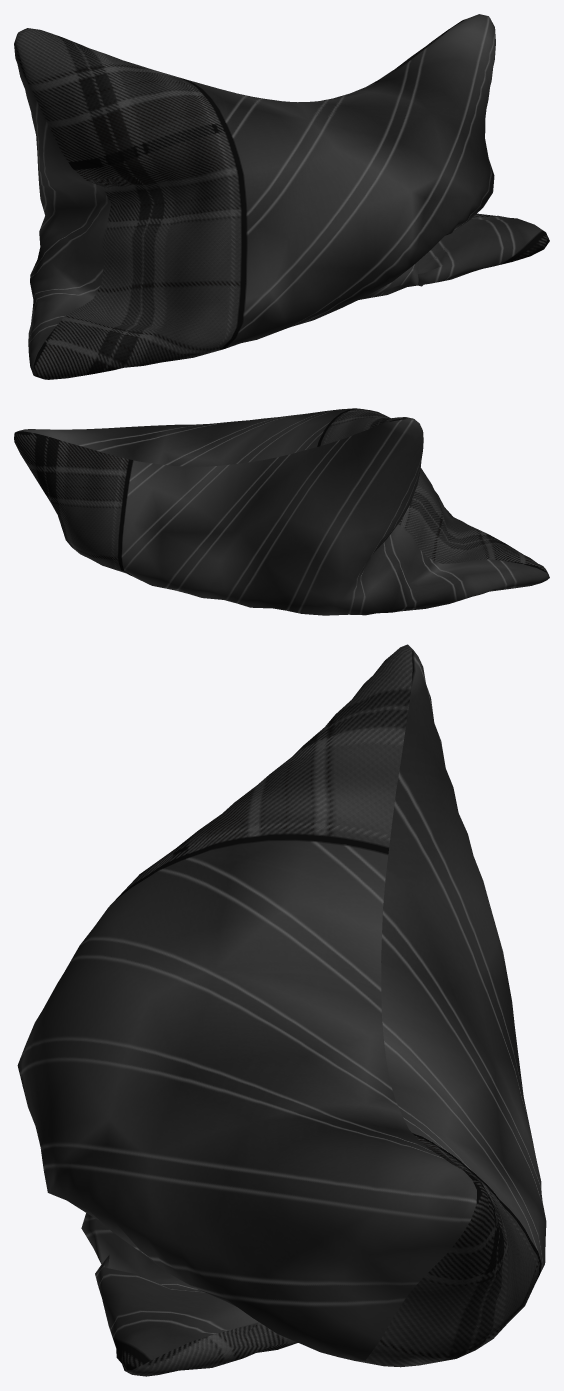
File: bedblack1.obj
3 renders of one model, top to bottom at view 1: azimuth 30°, elevation 25°; view 2: azimuth 150°, elevation 25°; view 3: azimuth 270°, elevation 25°, orthographic. The views are drawn at different scales.
Visible parts, largest first — view 1: Box005; view 2: Box005; view 3: Box005.
Boxes of the visible parts, x1,y1,x2,y2 form: Box005: (14,14,549,379); Box005: (14,408,549,615); Box005: (17,644,546,1376).
Bounding box in the file's own units: 56.33 × 24.37 × 28.94.
